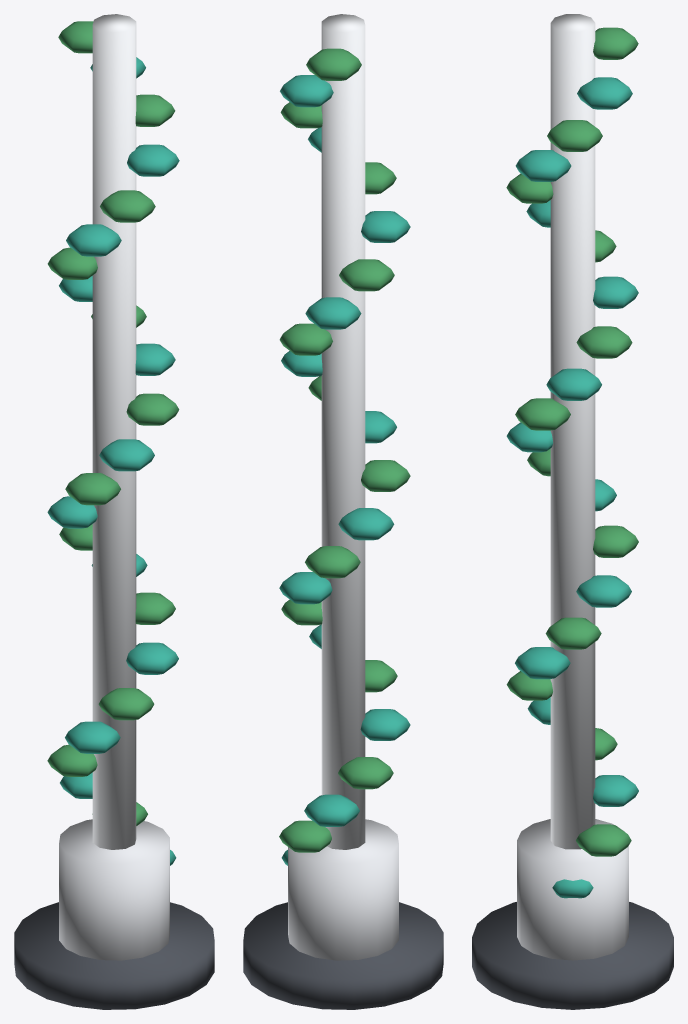
File: plant_vine_column.glb
3 views of the same model, side by side, from view 1: azimuth 30°, elevation 25°; view 2: azimuth 150°, elevation 25°; view 3: azimuth 270°, elevation 25° (orthographic).
Visible parts, largest first — view 1: GD_plant_vine_column__m1, GD_plant_vine_column__m4, GD_plant_vine_column__m0, GD_plant_vine_column__m3, GD_plant_vine_column__m2; view 2: GD_plant_vine_column__m1, GD_plant_vine_column__m0, GD_plant_vine_column__m3, GD_plant_vine_column__m4, GD_plant_vine_column__m2; view 3: GD_plant_vine_column__m1, GD_plant_vine_column__m0, GD_plant_vine_column__m3, GD_plant_vine_column__m2, GD_plant_vine_column__m4.
Boxes of the visible parts, box(x1,y1,x2,y2) form: GD_plant_vine_column__m1: box(92, 14, 136, 849); GD_plant_vine_column__m4: box(59, 819, 169, 960); GD_plant_vine_column__m0: box(14, 902, 214, 1009); GD_plant_vine_column__m3: box(47, 21, 179, 825); GD_plant_vine_column__m2: box(47, 57, 179, 865); GD_plant_vine_column__m1: box(321, 14, 365, 849); GD_plant_vine_column__m0: box(243, 902, 443, 1009); GD_plant_vine_column__m3: box(279, 48, 410, 852); GD_plant_vine_column__m4: box(288, 819, 398, 960); GD_plant_vine_column__m2: box(279, 75, 410, 865); GD_plant_vine_column__m1: box(550, 14, 595, 849); GD_plant_vine_column__m0: box(472, 902, 673, 1009); GD_plant_vine_column__m3: box(506, 27, 638, 856); GD_plant_vine_column__m2: box(506, 77, 638, 898); GD_plant_vine_column__m4: box(517, 819, 628, 960).
Size of the model in its own units: 0.36 by 1.86 by 0.36.
